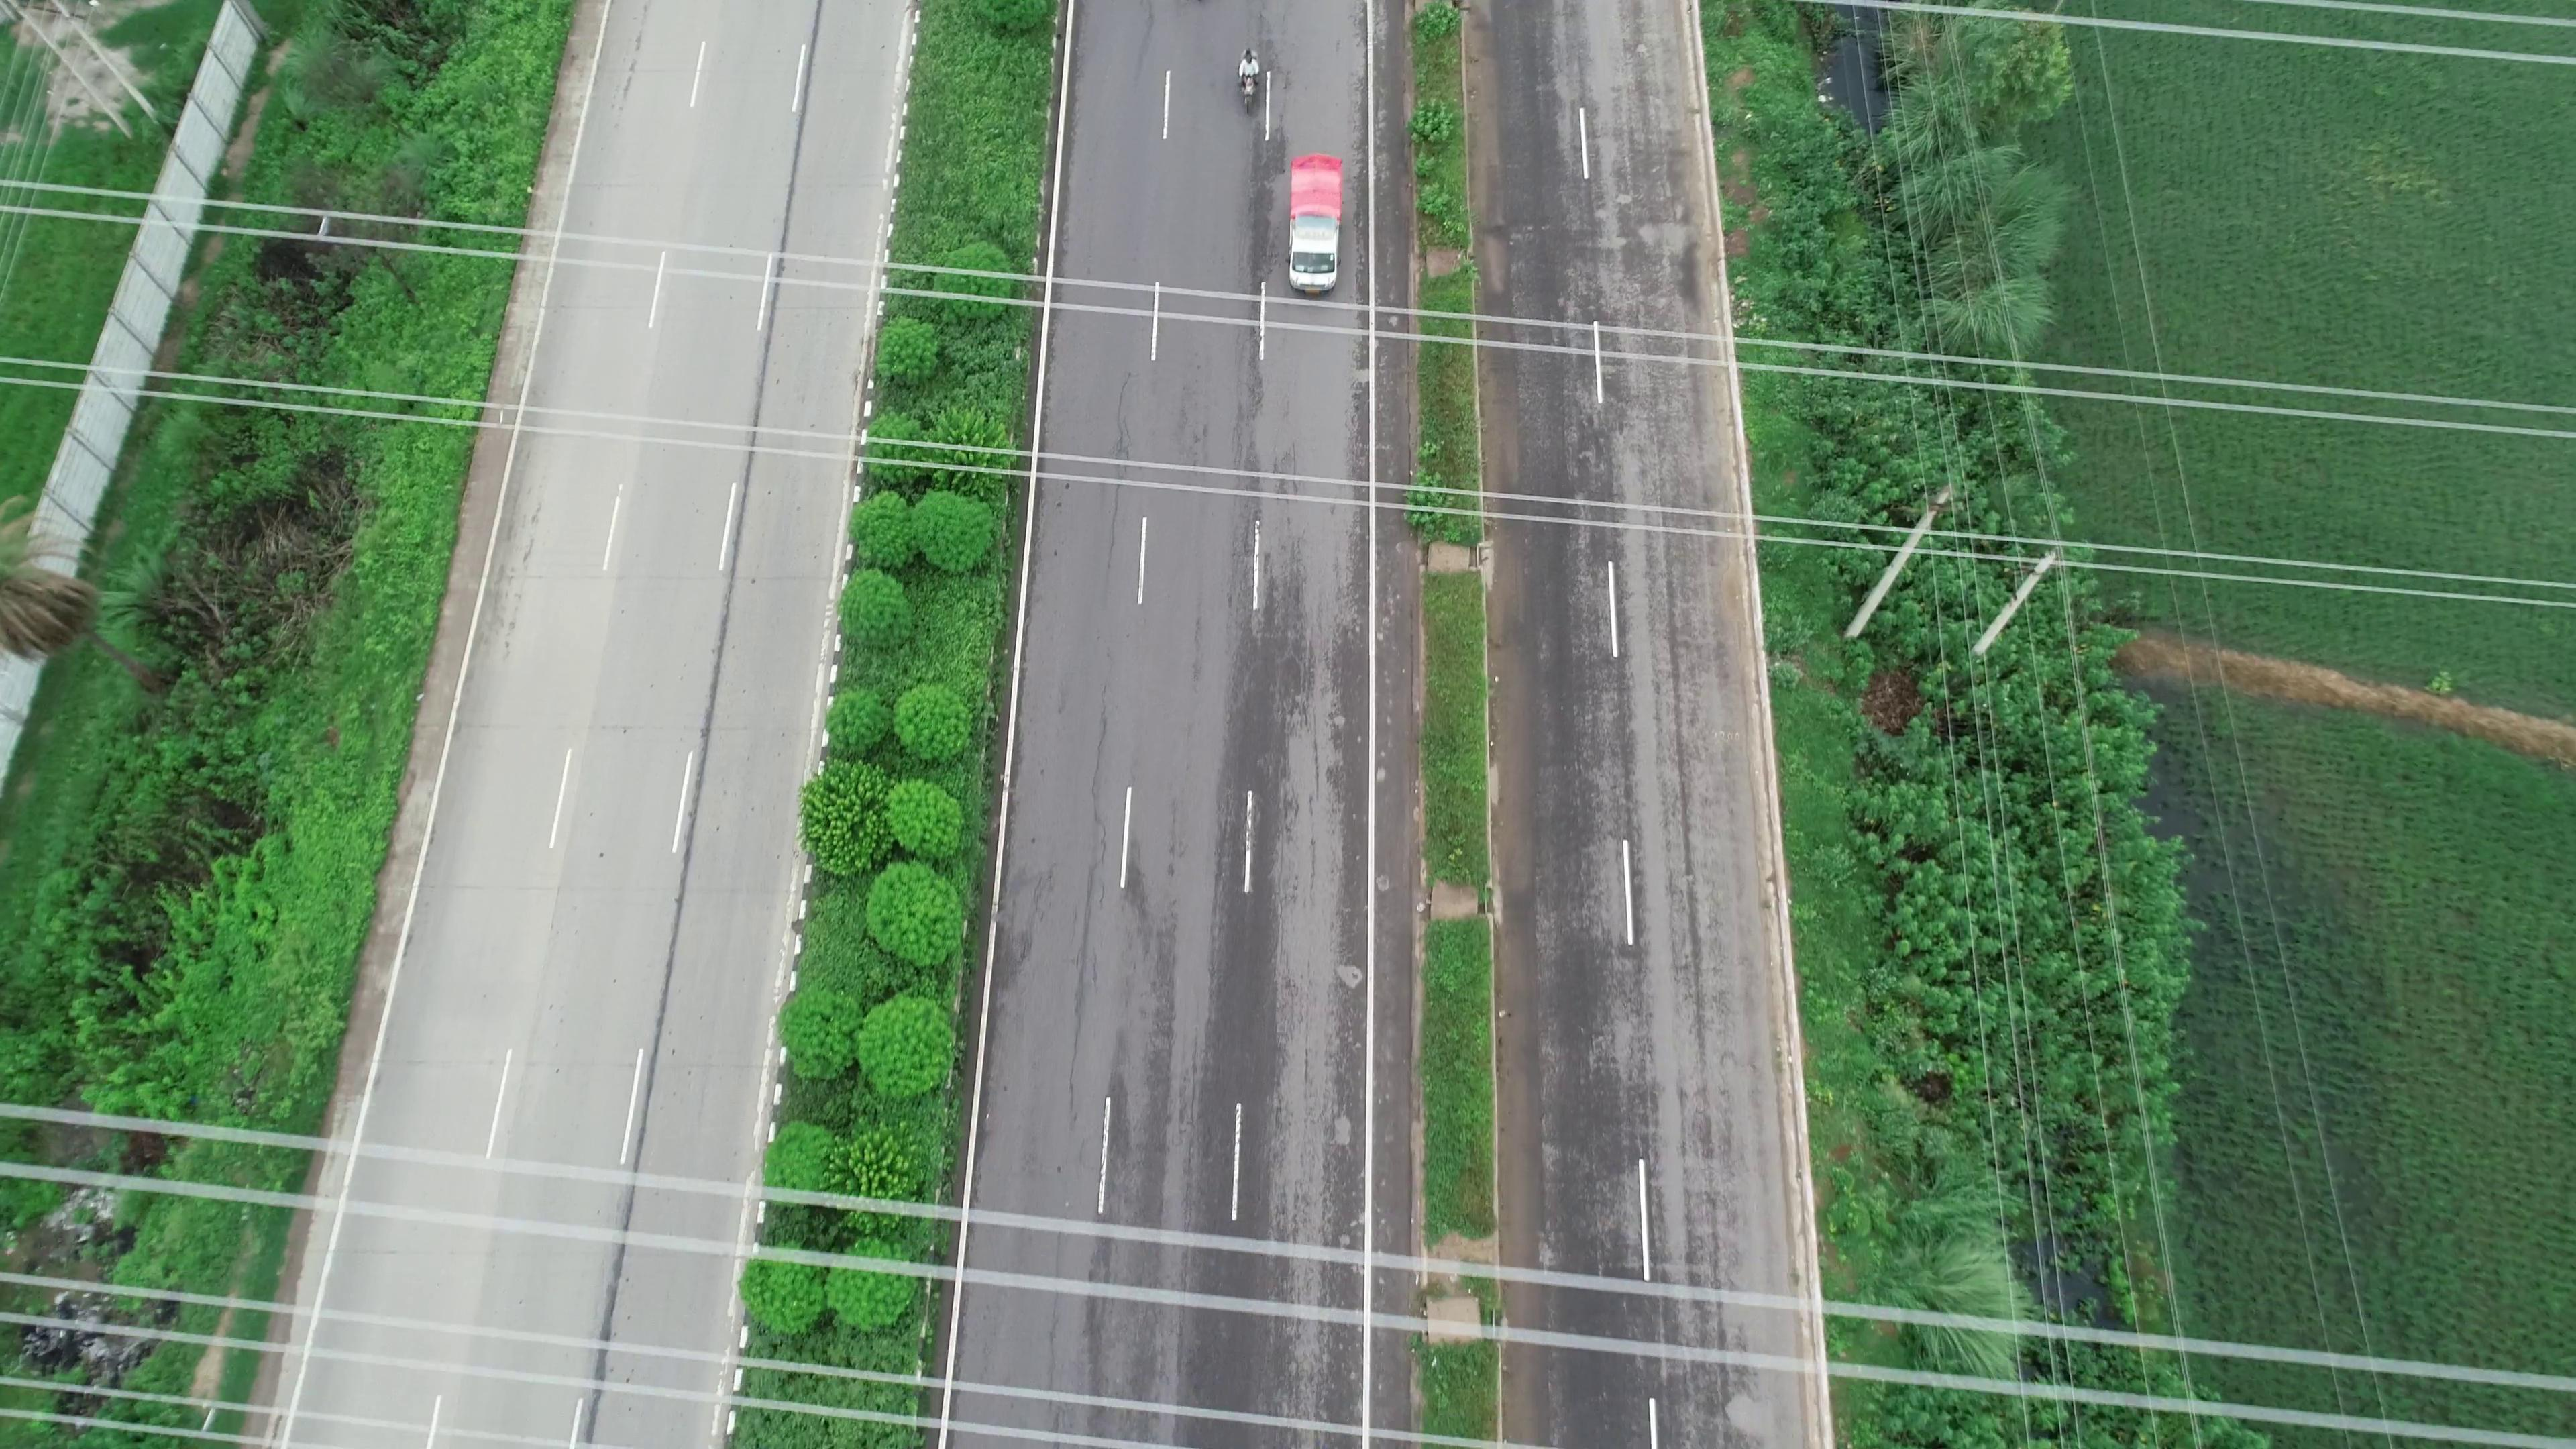Longitudinal_cracks: (1016, 637, 1132, 1115)
